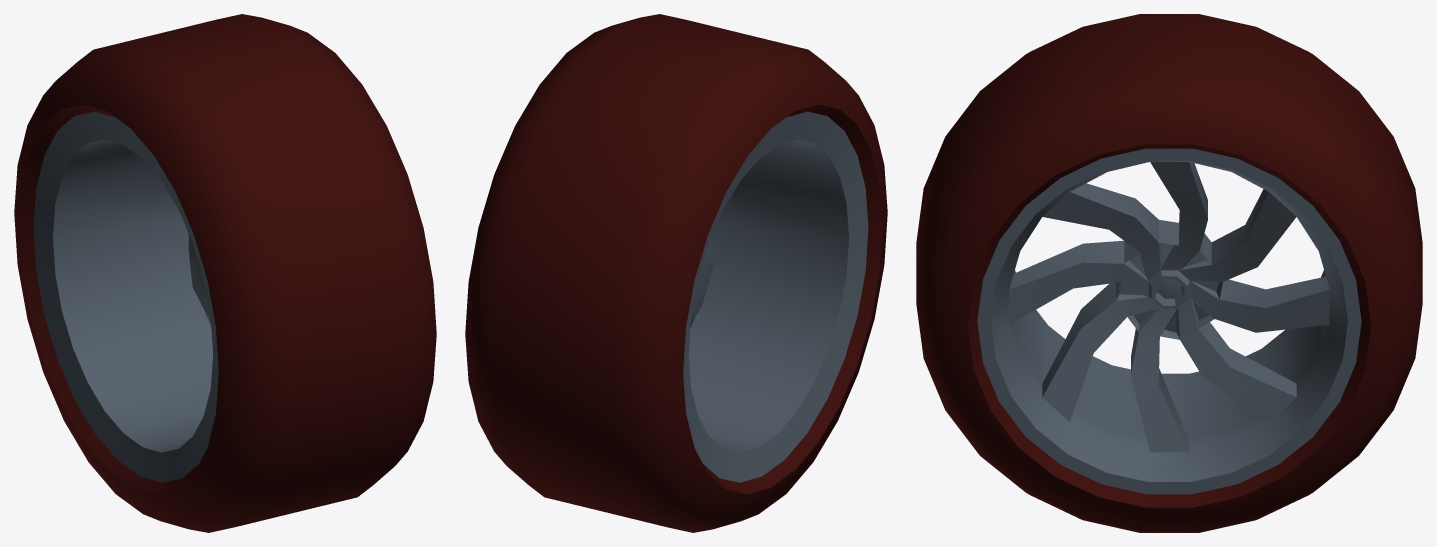
3 views of the same model, side by side, from view 1: azimuth 30°, elevation 25°; view 2: azimuth 150°, elevation 25°; view 3: azimuth 270°, elevation 25° (orthographic).
Parts seen in each view (by area): view 1: W6A; view 2: W6A; view 3: W6A.
Part boxes in pixels (x1,y1,x2,y2): W6A: [14, 14, 436, 532]; W6A: [465, 14, 887, 532]; W6A: [916, 14, 1422, 532].
Bounding box in the file's own units: 14.02 × 28.35 × 28.56.
